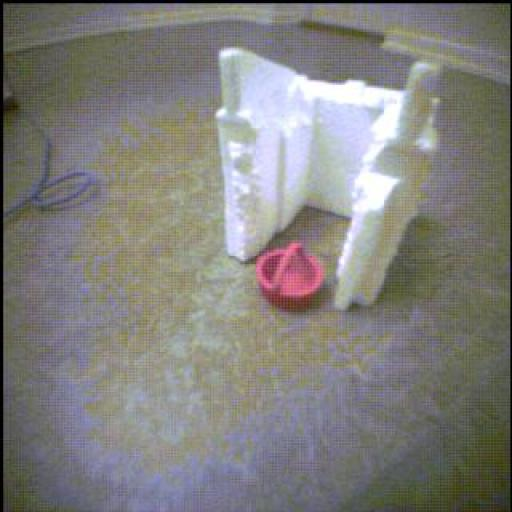Bucket: (257, 243, 324, 310)
